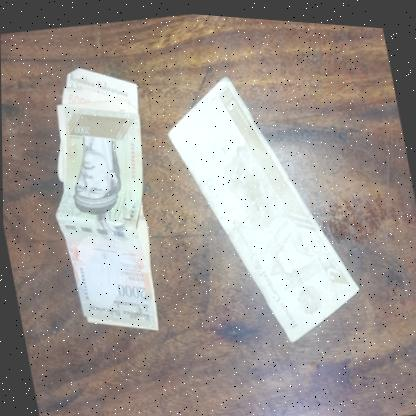five-back-vef: (156, 52, 366, 356)
